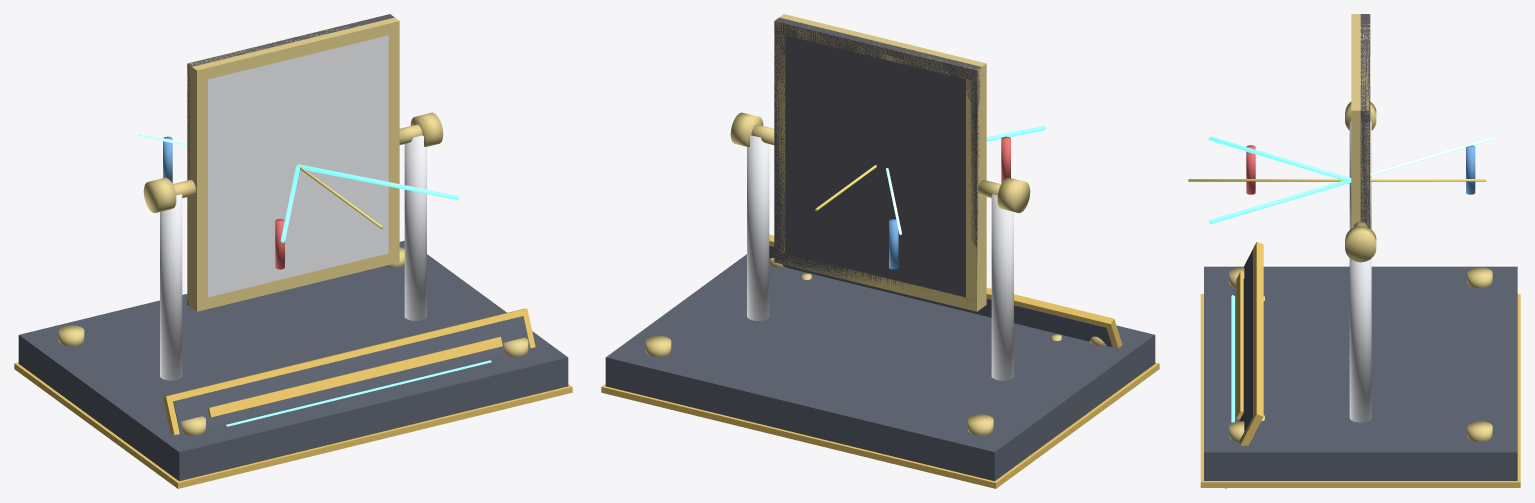
Rendered from plane-mirror.glb.
3 views of the same model, side by side, from view 1: azimuth 30°, elevation 25°; view 2: azimuth 150°, elevation 25°; view 3: azimuth 270°, elevation 25° (orthographic). The views are drawn at different scales.
Parts seen in each view (by area): view 1: pm_full_plinth, pm_full_mirror_pane, pm_sec_plaque_face, pm_full_plinth_rim, pm_full_frame_l, pm_full_post_r, pm_full_post_l, pm_full_frame_top, pm_sec_plaque_trim, pm_sec_title_bar, pm_full_frame_bot, pm_full_frame_r (+5 smaller); view 2: pm_full_plinth, pm_full_backing, pm_full_plinth_rim, pm_full_frame_l, pm_full_post_r, pm_full_post_l, pm_full_frame_top, pm_sec_plaque_face, pm_full_frame_bot, pm_full_frame_r, pm_sec_plaque_trim, pm_full_knob_l (+1 smaller); view 3: pm_full_plinth, pm_full_plinth_rim, pm_full_post_r, pm_full_backing, pm_sec_plaque_trim, pm_sec_plaque_face, pm_full_frame_top, pm_full_frame_r, pm_sec_title_bar, pm_full_knob_r, pm_sec_normal, pm_sec_r_ref (+8 smaller).
Boxes of the visible parts, box(x1,y1,x2,y2) form: pm_full_plinth: box(18, 240, 568, 481); pm_full_mirror_pane: box(208, 35, 388, 297); pm_sec_plaque_face: box(173, 316, 530, 434); pm_full_plinth_rim: box(14, 362, 572, 488); pm_full_frame_l: box(187, 75, 207, 299); pm_full_post_r: box(404, 135, 426, 320); pm_full_post_l: box(160, 194, 182, 380); pm_full_frame_top: box(187, 17, 399, 81); pm_sec_plaque_trim: box(162, 308, 535, 434); pm_sec_title_bar: box(207, 337, 502, 417); pm_full_frame_bot: box(187, 251, 399, 311); pm_full_frame_r: box(388, 32, 399, 253); pm_full_plinth: box(605, 254, 1155, 481); pm_full_backing: box(774, 17, 981, 300); pm_full_plinth_rim: box(601, 362, 1159, 488); pm_full_frame_l: box(966, 75, 986, 299); pm_full_post_r: box(747, 135, 769, 320); pm_full_post_l: box(991, 194, 1013, 380); pm_full_frame_top: box(774, 14, 986, 81); pm_sec_plaque_face: box(769, 245, 1112, 346); pm_full_frame_bot: box(774, 252, 986, 311); pm_full_frame_r: box(774, 33, 785, 253); pm_sec_plaque_trim: box(769, 234, 1122, 347); pm_full_knob_l: box(997, 177, 1030, 212); pm_full_plinth: box(1204, 266, 1517, 480); pm_full_plinth_rim: box(1200, 294, 1520, 487); pm_full_post_r: box(1349, 258, 1371, 422); pm_full_backing: box(1360, 14, 1370, 228); pm_sec_plaque_trim: box(1224, 242, 1263, 488); pm_sec_plaque_face: box(1239, 249, 1253, 442); pm_full_frame_top: box(1351, 14, 1370, 122); pm_full_frame_r: box(1351, 122, 1370, 228); pm_sec_title_bar: box(1236, 271, 1243, 419); pm_full_knob_r: box(1345, 226, 1376, 262); pm_sec_normal: box(1188, 179, 1486, 181); pm_sec_r_ref: box(1208, 178, 1351, 224).
Size of the model in its own units: 0.142 by 0.1197 by 0.106.
